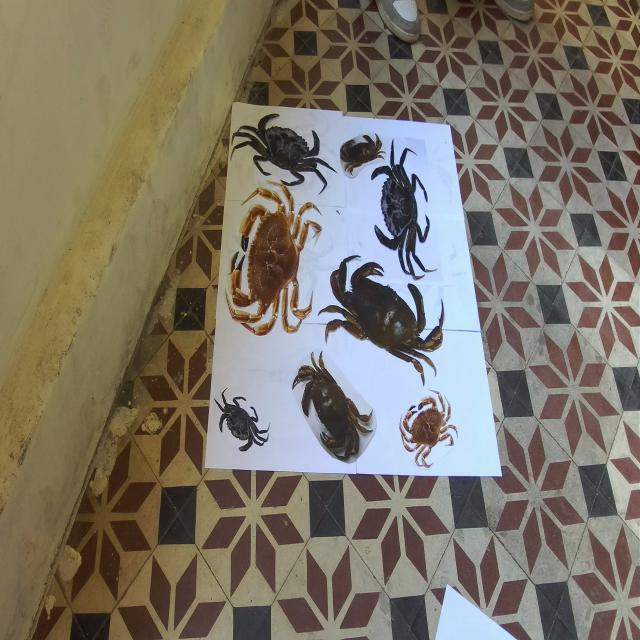European_Green_Crab: (363, 127, 438, 296), (229, 96, 343, 207), (207, 375, 273, 470)
